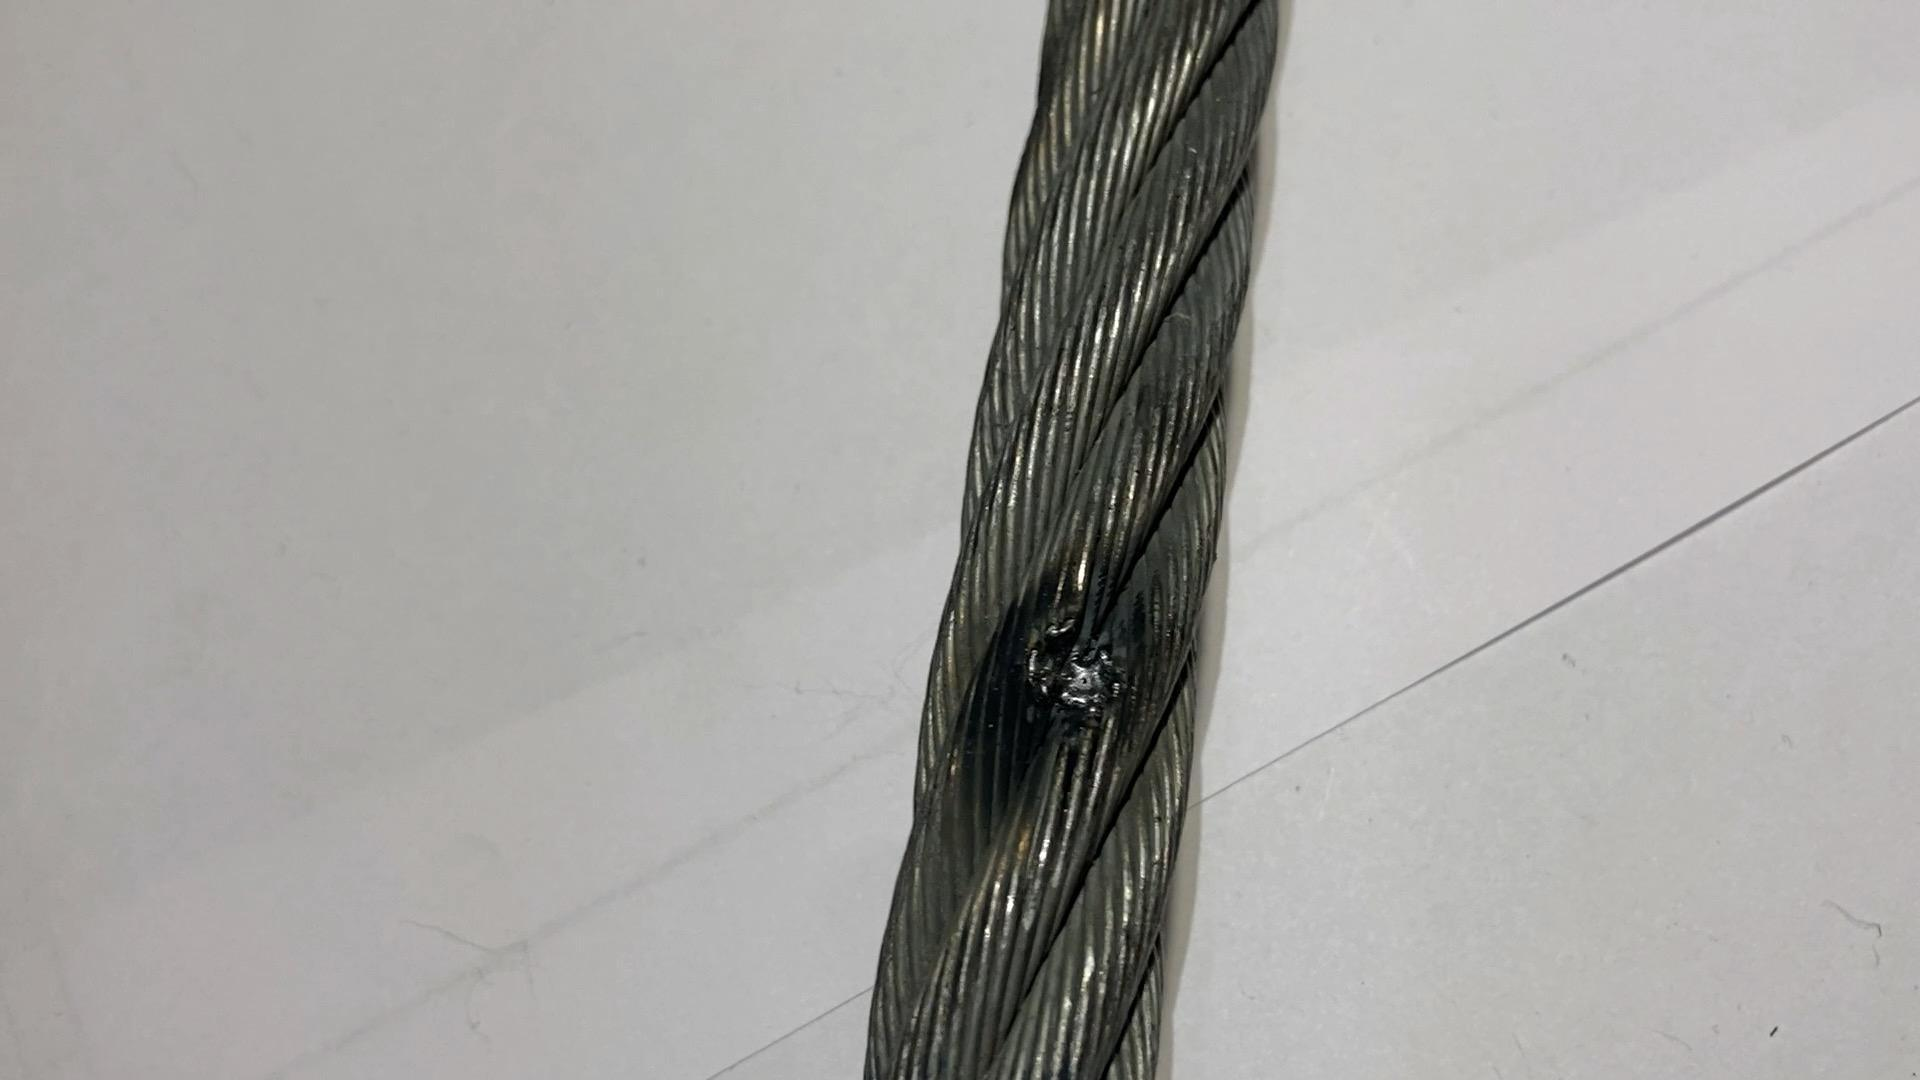thunderbolt: (1025, 580, 1167, 720)
